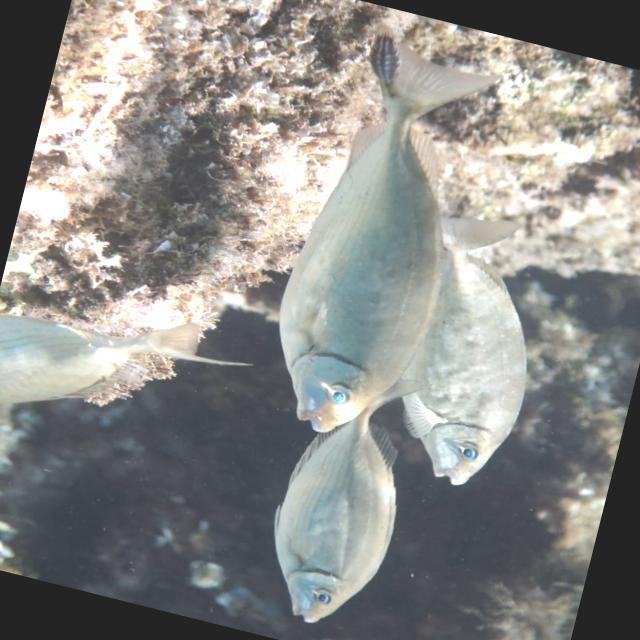Sokar Baligi: (228, 14, 525, 466)
